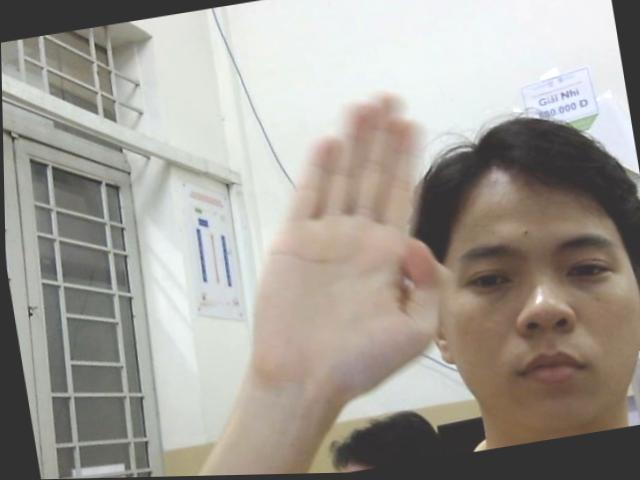B: (223, 85, 471, 407)
